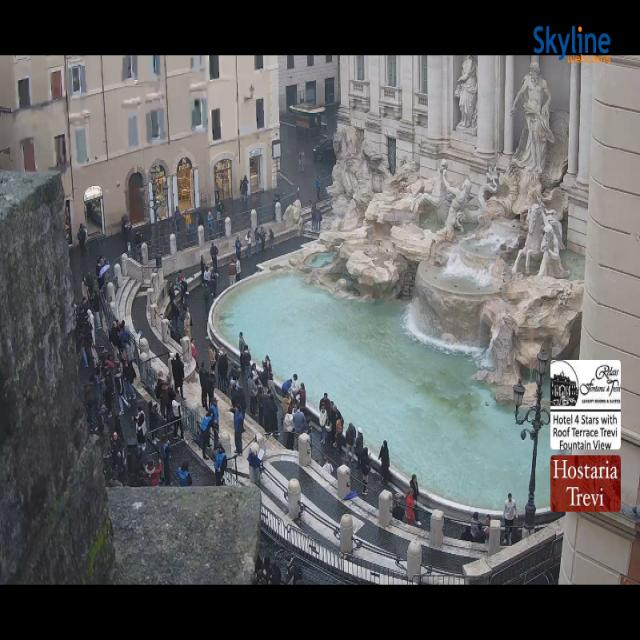person: (76, 310, 120, 377), (83, 338, 116, 410), (80, 304, 109, 363), (92, 405, 124, 456), (81, 309, 107, 363), (76, 288, 101, 344), (155, 353, 175, 421), (86, 385, 111, 436), (85, 375, 105, 431), (79, 335, 96, 399), (159, 209, 186, 248), (159, 352, 176, 412), (121, 213, 142, 261), (85, 372, 102, 431), (168, 272, 189, 318), (155, 352, 176, 398), (230, 346, 251, 390), (201, 398, 219, 449), (84, 290, 100, 344), (83, 292, 99, 344), (154, 371, 170, 421), (260, 388, 277, 432), (392, 493, 415, 524), (116, 364, 129, 416), (80, 272, 96, 314), (257, 360, 275, 397), (126, 222, 143, 261), (504, 493, 517, 543), (85, 385, 99, 430), (121, 320, 135, 363), (228, 362, 245, 397), (329, 403, 343, 445), (263, 391, 277, 432), (232, 404, 243, 455), (169, 285, 179, 341), (262, 356, 276, 396), (160, 435, 171, 485), (192, 338, 206, 377), (172, 390, 183, 439), (230, 382, 246, 415), (200, 411, 211, 459), (232, 361, 250, 390), (111, 432, 124, 472), (172, 299, 184, 342), (172, 353, 184, 396), (119, 322, 132, 361), (103, 365, 114, 411), (135, 408, 146, 454), (285, 555, 302, 584), (215, 444, 227, 485), (124, 360, 136, 401), (86, 328, 99, 365), (96, 405, 112, 435), (199, 362, 209, 410), (89, 339, 106, 367), (379, 440, 390, 483), (360, 448, 370, 495), (268, 389, 279, 431), (161, 379, 172, 421), (145, 458, 162, 485), (210, 398, 219, 449), (227, 359, 239, 397), (218, 350, 228, 394), (121, 212, 132, 252), (172, 302, 183, 342), (265, 357, 276, 397), (252, 555, 267, 584), (471, 512, 485, 543), (176, 276, 189, 309), (255, 378, 264, 425), (75, 299, 89, 329), (90, 291, 101, 329), (133, 403, 146, 435), (109, 322, 120, 359), (335, 418, 346, 455), (319, 406, 330, 443), (293, 408, 308, 435), (205, 266, 218, 297), (320, 408, 331, 444), (109, 320, 120, 356), (130, 229, 142, 262), (284, 411, 294, 450), (228, 362, 239, 397), (148, 402, 159, 437), (206, 265, 218, 297), (345, 423, 355, 461), (100, 350, 114, 377), (248, 362, 266, 383), (207, 337, 217, 374), (176, 462, 192, 485), (110, 413, 123, 441), (229, 364, 240, 397), (248, 376, 257, 416), (207, 364, 215, 408), (79, 337, 90, 368), (270, 191, 281, 222), (216, 202, 226, 236), (392, 495, 405, 521), (406, 488, 415, 525), (240, 345, 251, 375), (77, 224, 87, 257), (178, 273, 188, 305), (209, 265, 219, 297), (355, 428, 363, 467), (168, 385, 176, 424), (248, 450, 261, 474), (204, 264, 214, 295), (298, 383, 307, 416), (252, 555, 262, 584), (215, 189, 226, 215), (191, 338, 199, 372), (166, 351, 174, 385), (262, 557, 272, 584), (632, 480, 639, 518), (121, 213, 128, 251), (320, 392, 331, 416), (219, 203, 227, 236), (268, 564, 281, 584), (135, 230, 143, 262), (88, 308, 95, 344), (154, 371, 163, 399), (168, 352, 175, 387), (216, 350, 225, 377), (259, 362, 268, 389), (410, 475, 419, 502), (96, 255, 103, 289), (414, 493, 421, 527), (210, 268, 218, 297), (184, 306, 191, 339), (291, 373, 299, 401), (244, 345, 251, 377), (210, 243, 218, 271), (184, 211, 191, 242), (167, 353, 174, 384), (410, 475, 419, 499), (208, 209, 215, 239), (125, 222, 132, 252), (203, 269, 211, 294), (228, 260, 236, 285), (249, 363, 259, 383), (323, 457, 334, 475), (245, 230, 251, 263), (510, 526, 521, 544), (241, 177, 249, 201), (240, 176, 247, 202), (282, 395, 291, 415), (281, 379, 292, 395), (483, 515, 491, 537), (121, 212, 129, 234), (168, 283, 176, 304), (311, 203, 317, 230), (315, 204, 321, 231), (260, 226, 266, 251), (235, 236, 241, 259), (316, 208, 322, 231), (312, 203, 317, 230), (215, 190, 221, 212), (176, 270, 183, 288), (316, 176, 321, 201), (200, 256, 205, 281), (255, 226, 259, 255), (197, 211, 204, 227), (244, 176, 249, 198), (299, 149, 304, 171), (317, 210, 322, 231), (269, 229, 274, 249), (236, 259, 241, 278), (632, 505, 639, 518), (301, 149, 305, 171), (299, 150, 302, 171), (196, 360, 199, 374)
